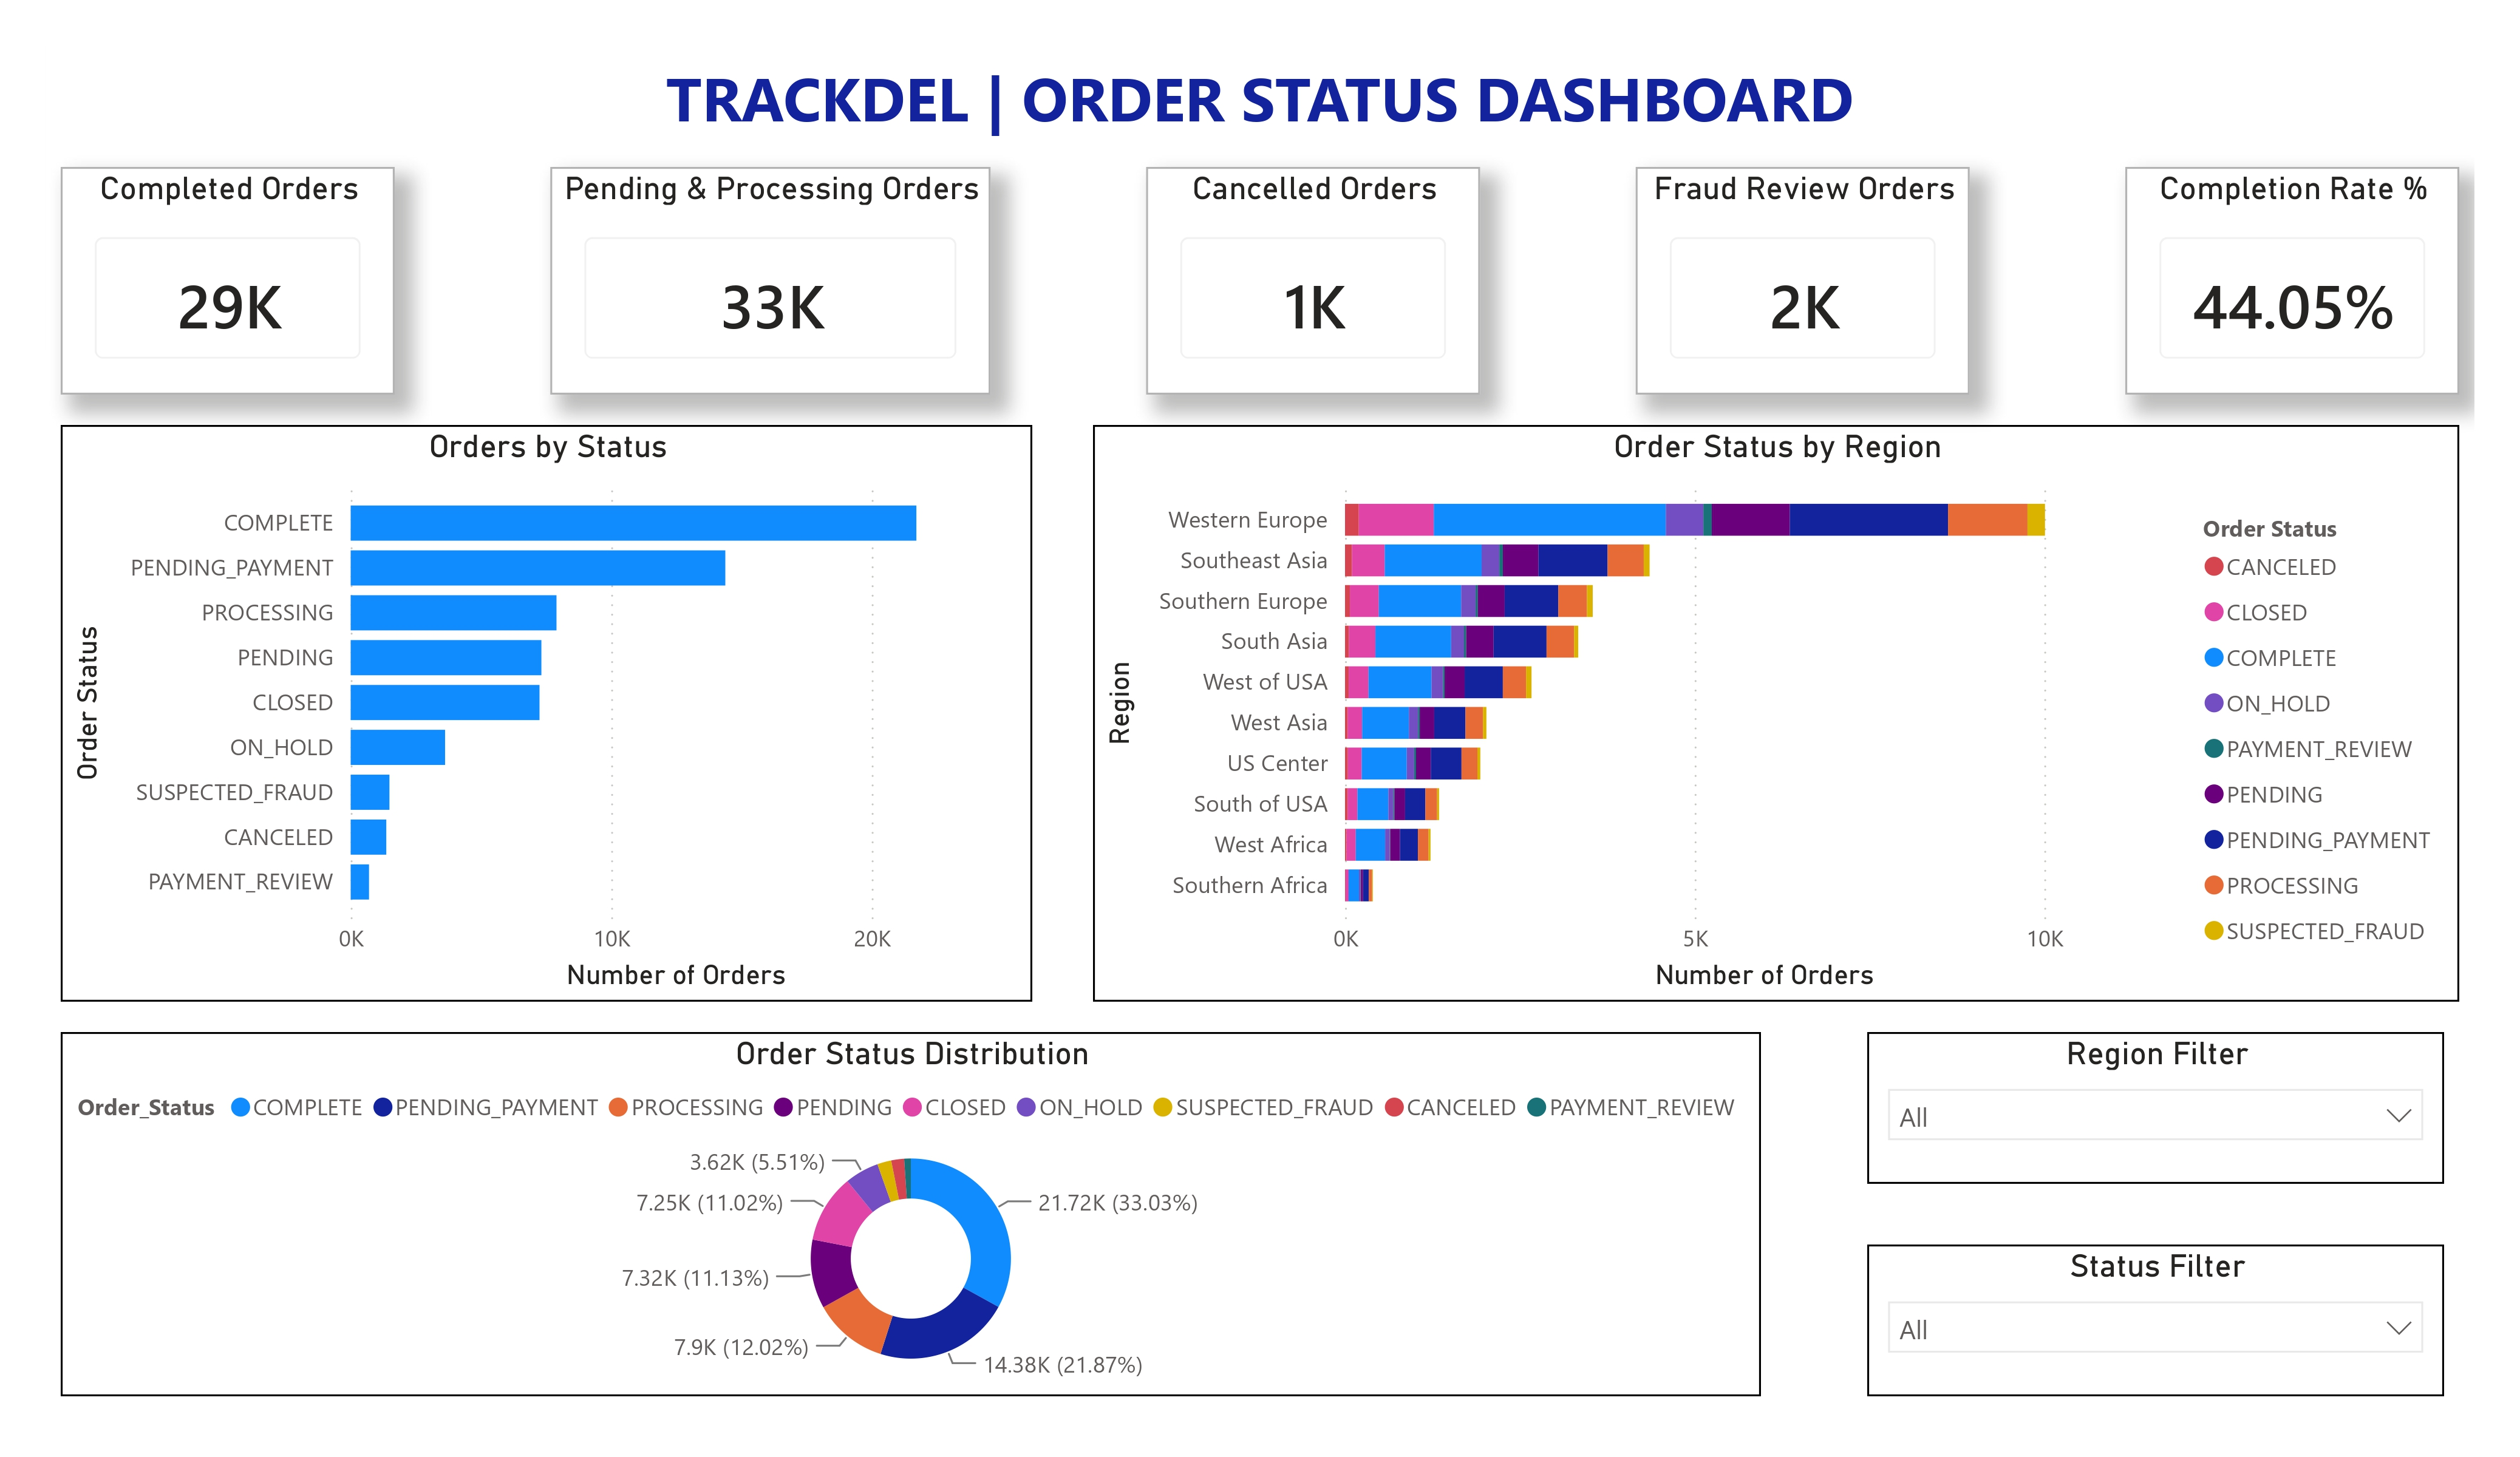

This screenshot's page, from the dashboard's own definition file:
{"tool":"powerbi","page":{"name":"Page 3","canvas":[1280,720],"ordinal":2},"visuals":[{"type":"textbox","box":[0,0,1280,64],"z":0},{"type":"cardVisual","title":"Cancelled Orders","fields":{"Data":["trackdel trackdel_data.Cancelled Orders"]},"box":[580,64,176,120],"z":1000},{"type":"cardVisual","title":"Completed Orders","fields":{"Data":["trackdel trackdel_data.Completed Orders"]},"box":[8,64,176,120],"z":2000},{"type":"cardVisual","title":"Completion Rate %","fields":{"Data":["trackdel trackdel_data.Completion Rate %"]},"box":[1096,64,176,120],"z":3000},{"type":"cardVisual","title":"Pending & Processing Orders","fields":{"Data":["trackdel trackdel_data.Pending Orders"]},"box":[266,64,232,120],"z":4000},{"type":"donutChart","title":"Order Status Distribution","fields":{"Category":["trackdel trackdel_data.Order_Status"],"Y":["Count(trackdel trackdel_data.Order_Id)"]},"box":[8,520,896,192],"z":5000},{"type":"clusteredBarChart","title":"Orders by Status","fields":{"Category":["trackdel trackdel_data.Order_Status"],"Y":["Count(trackdel trackdel_data.Order_Id)"]},"box":[8,200,512,304],"z":6000},{"type":"barChart","title":"Order Status by Region","fields":{"Category":["trackdel trackdel_data.Order_Region"],"Series":["trackdel trackdel_data.Order_Status"],"Y":["Count(trackdel trackdel_data.Order_Id)"]},"box":[552,200,720,304],"z":7000},{"type":"slicer","title":"Region Filter","fields":{"Values":["trackdel trackdel_data.Order_Region"]},"box":[960,520,304,80],"z":8000},{"type":"slicer","title":"Status Filter","fields":{"Values":["trackdel trackdel_data.Order_Status"]},"box":[960,632,304,80],"z":9000},{"type":"cardVisual","title":"Fraud Review Orders","fields":{"Data":["trackdel trackdel_data.Fraud Review Orders"]},"box":[838,64,176,120],"z":10000}]}

Visuals, with their boxes on the page's 1280x720 design canvas (x1, y1, x2, y2). These are canvas units, not pixel positions in the 2520x1457 screenshot, which may show the page scaled, cropped or inside an application window:
textbox: locate(0, 0, 1280, 64)
"Cancelled Orders" cardVisual: locate(580, 64, 756, 184)
"Completed Orders" cardVisual: locate(8, 64, 184, 184)
"Completion Rate %" cardVisual: locate(1096, 64, 1272, 184)
"Pending & Processing Orders" cardVisual: locate(266, 64, 498, 184)
"Order Status Distribution" donutChart: locate(8, 520, 904, 712)
"Orders by Status" clusteredBarChart: locate(8, 200, 520, 504)
"Order Status by Region" barChart: locate(552, 200, 1272, 504)
"Region Filter" slicer: locate(960, 520, 1264, 600)
"Status Filter" slicer: locate(960, 632, 1264, 712)
"Fraud Review Orders" cardVisual: locate(838, 64, 1014, 184)
